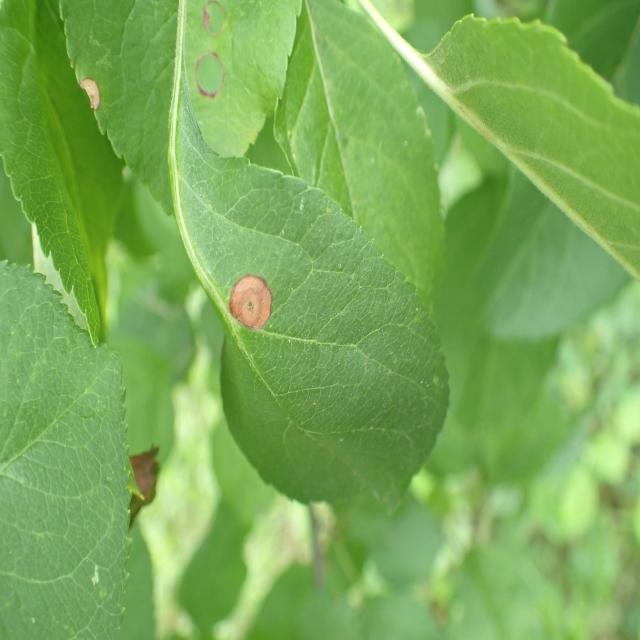Black Rot: (218, 259, 282, 341), (191, 45, 235, 123), (174, 0, 257, 37), (72, 64, 114, 133)
